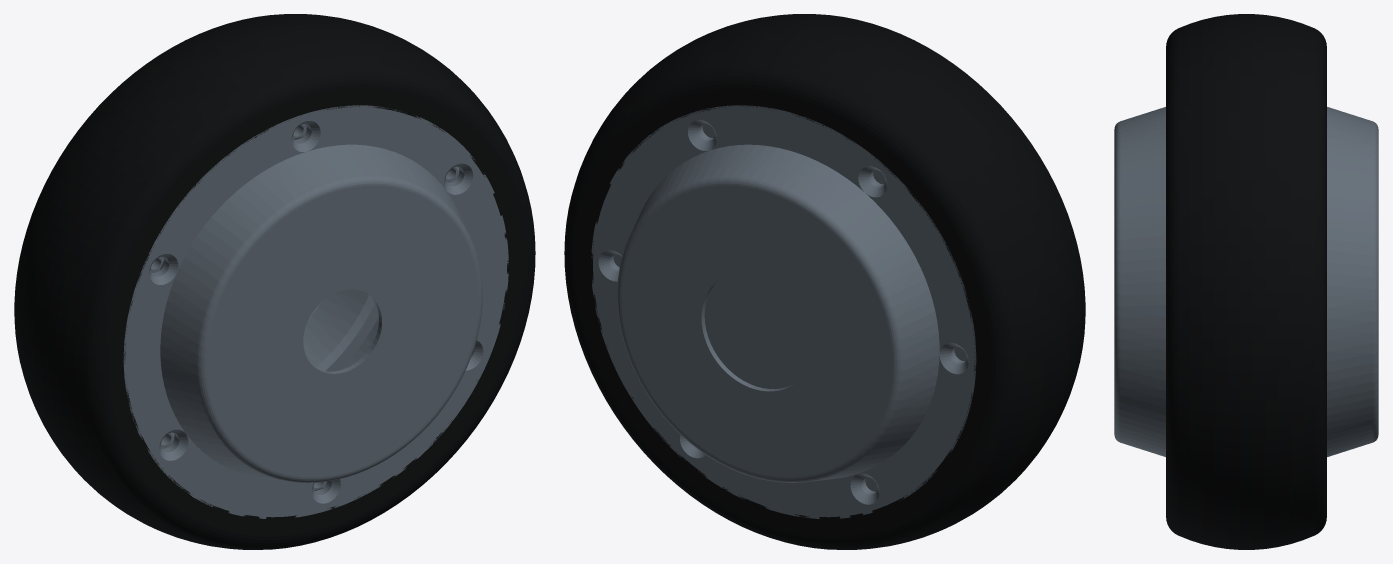
File: center_left_wheel_link.dae
3 renders of one model, left to right at view 1: azimuth 30°, elevation 25°; view 2: azimuth 150°, elevation 25°; view 3: azimuth 270°, elevation 25°, orthographic. The views are drawn at different scales.
Parts seen in each view (by area): view 1: steel-node, black-node; view 2: steel-node, black-node; view 3: black-node, steel-node.
Boxes of the visible parts, x1,y1,x2,y2 form: steel-node: (123, 105, 508, 518); black-node: (14, 14, 535, 549); steel-node: (591, 105, 976, 518); black-node: (564, 14, 1085, 549); black-node: (1166, 14, 1326, 549); steel-node: (1114, 107, 1378, 456).
Size of the model in its own units: 0.1299 by 0.064 by 0.1299.
